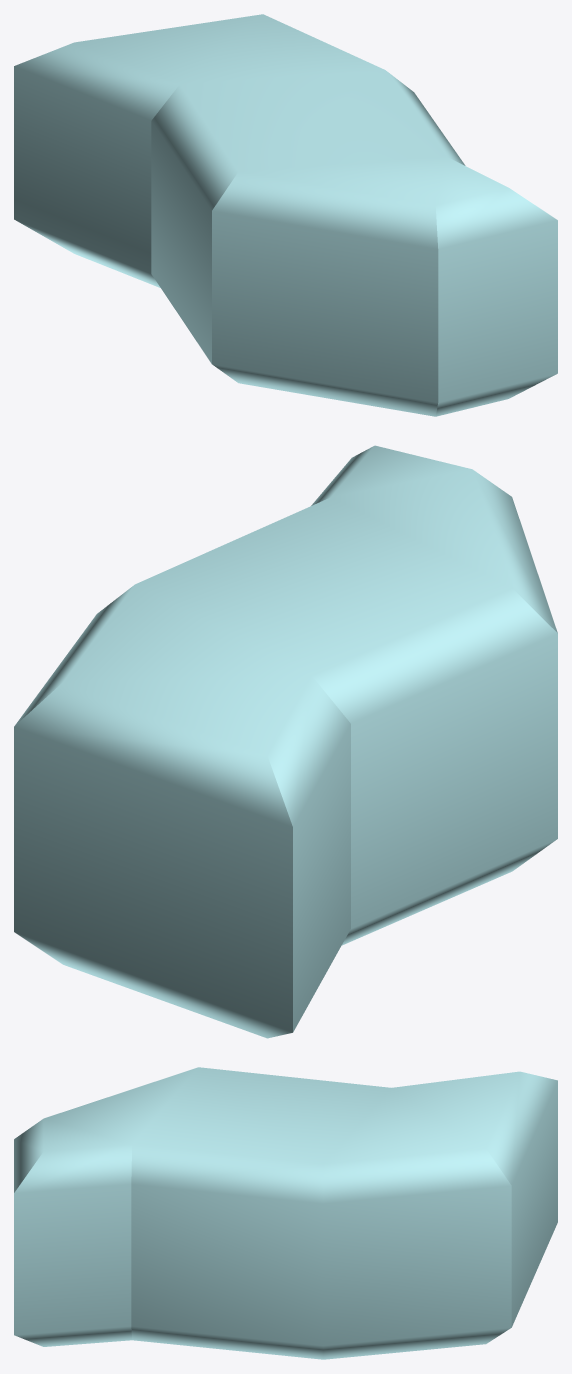
Rendered from ice_floe_small_001.fbx.
The picture shows the model from 3 angles, top to bottom: view 1: azimuth 30°, elevation 25°; view 2: azimuth 150°, elevation 25°; view 3: azimuth 270°, elevation 25°; orthographic projection. The views are drawn at different scales.
Visible parts, largest first — view 1: ice_floe_small_001; view 2: ice_floe_small_001; view 3: ice_floe_small_001.
Boxes of the visible parts, x1=… form: ice_floe_small_001: x1=14, y1=14, x2=557, y2=416; ice_floe_small_001: x1=14, y1=445, x2=557, y2=1038; ice_floe_small_001: x1=14, y1=1067, x2=557, y2=1359.
Bounding box in the file's own units: 94.21 × 175 × 69.62.
